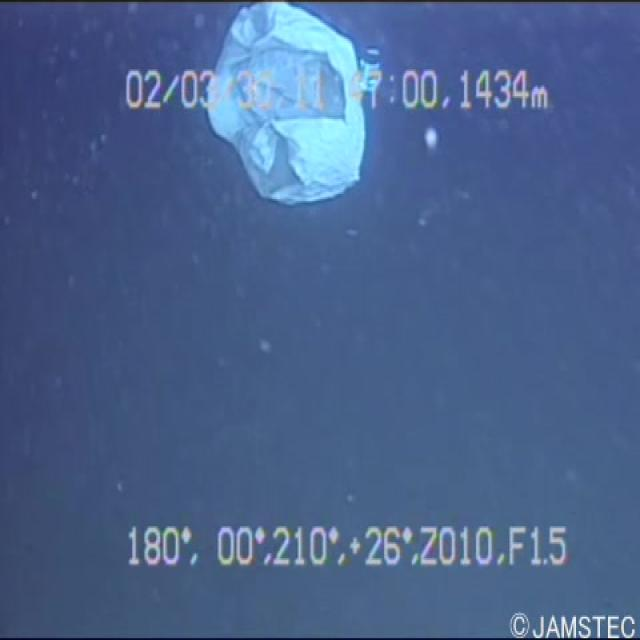plastic: (201, 0, 379, 215)
